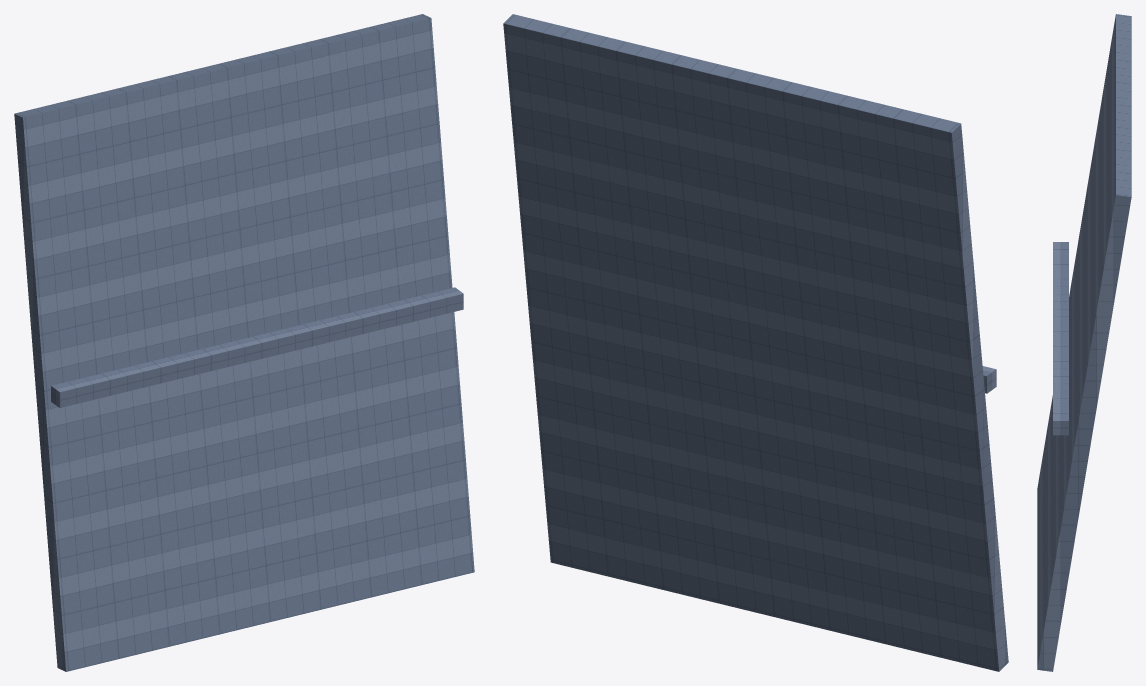
3 views of the same model, side by side, from view 1: azimuth 30°, elevation 25°; view 2: azimuth 150°, elevation 25°; view 3: azimuth 270°, elevation 25° (orthographic). The views are drawn at different scales.
Parts seen in each view (by area): view 1: roof_industrial_shed_2u_production_run001; view 2: roof_industrial_shed_2u_production_run001; view 3: roof_industrial_shed_2u_production_run001.
Boxes of the visible parts, x1,y1,x2,y2 form: roof_industrial_shed_2u_production_run001: [14, 14, 474, 671]; roof_industrial_shed_2u_production_run001: [503, 14, 1008, 671]; roof_industrial_shed_2u_production_run001: [1037, 14, 1131, 671].
Size of the model in its own units: 8.09 by 9.93 by 1.78.
Materials: 1 (1 with a texture image).
